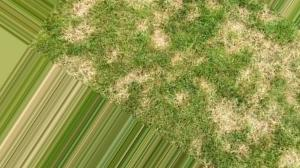patch: (255, 35, 291, 102)
